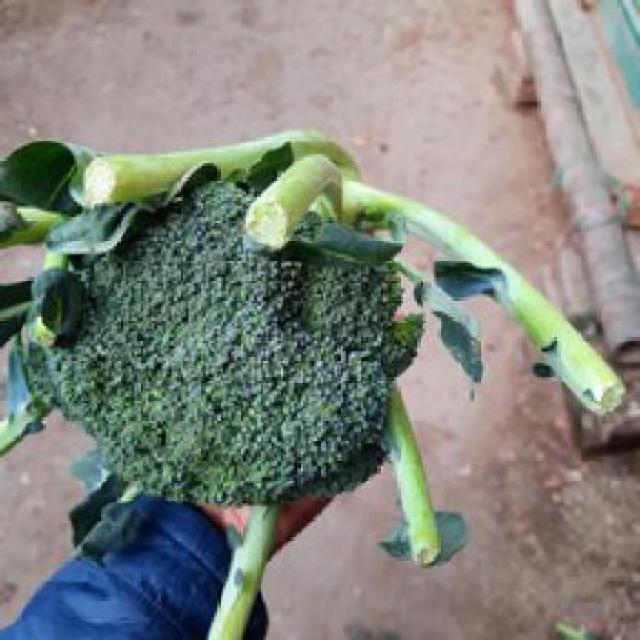broccoli: (40, 157, 477, 517)
